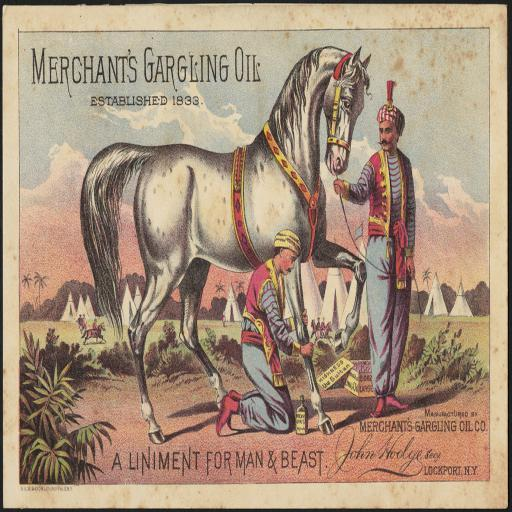Horse: (80, 42, 374, 446)
